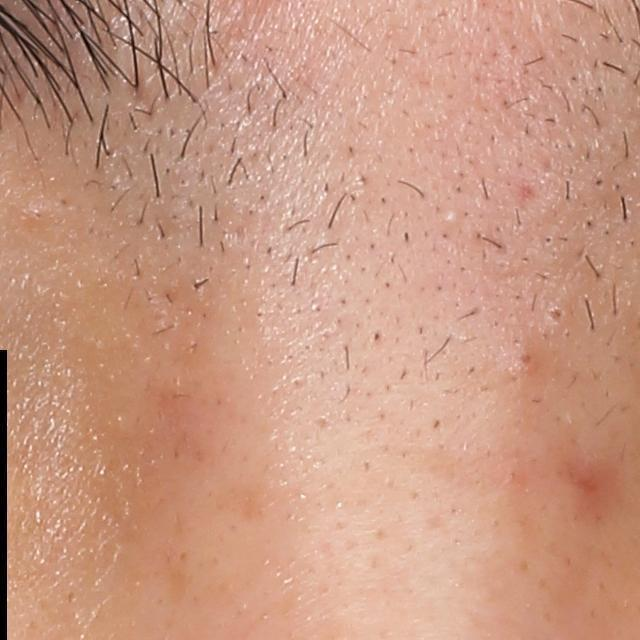comedo: (512, 348, 538, 375), (546, 303, 567, 328), (445, 207, 461, 228)
